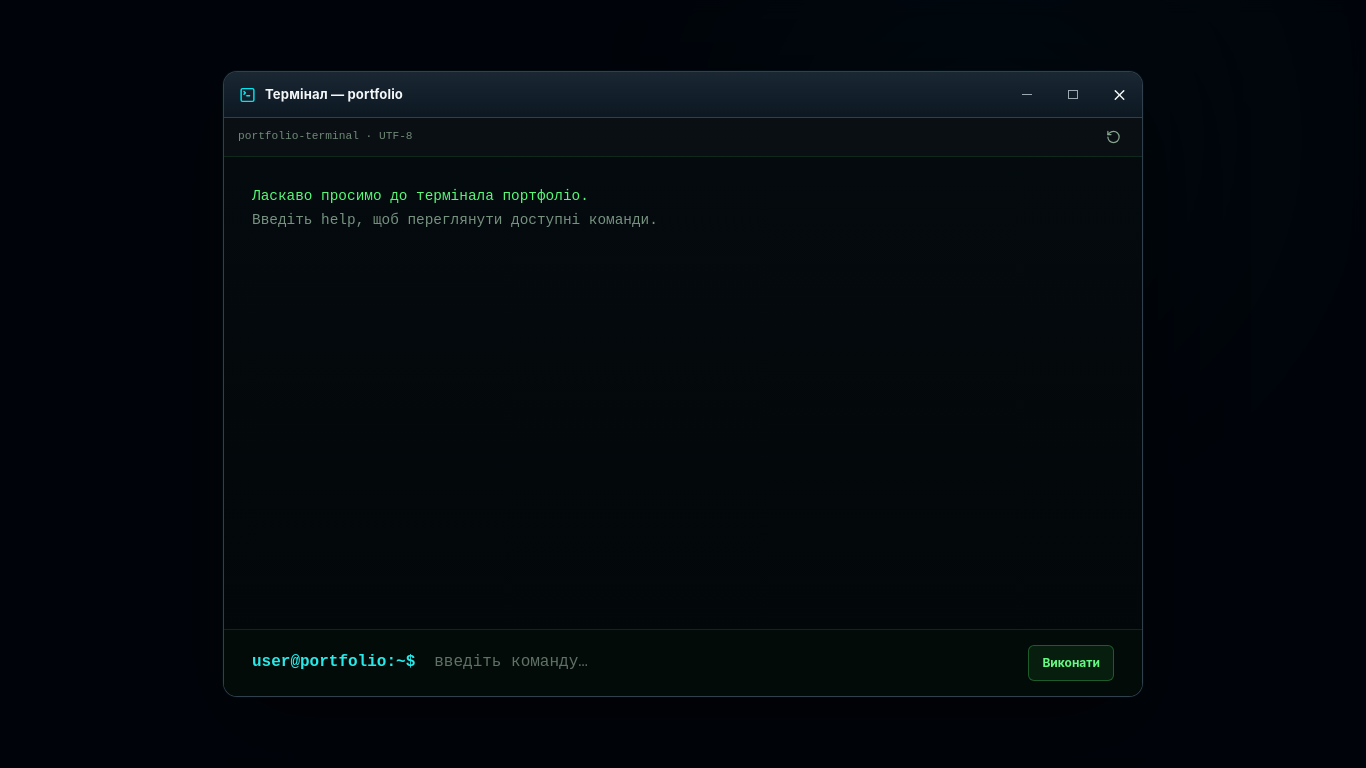
Scenario: TerminalWindow › prints the coffee easter egg after executing the command
Type "coffee" into the field with id "terminal-command".
click(726, 663); type("coffee")  # box [432,644,1020,682]
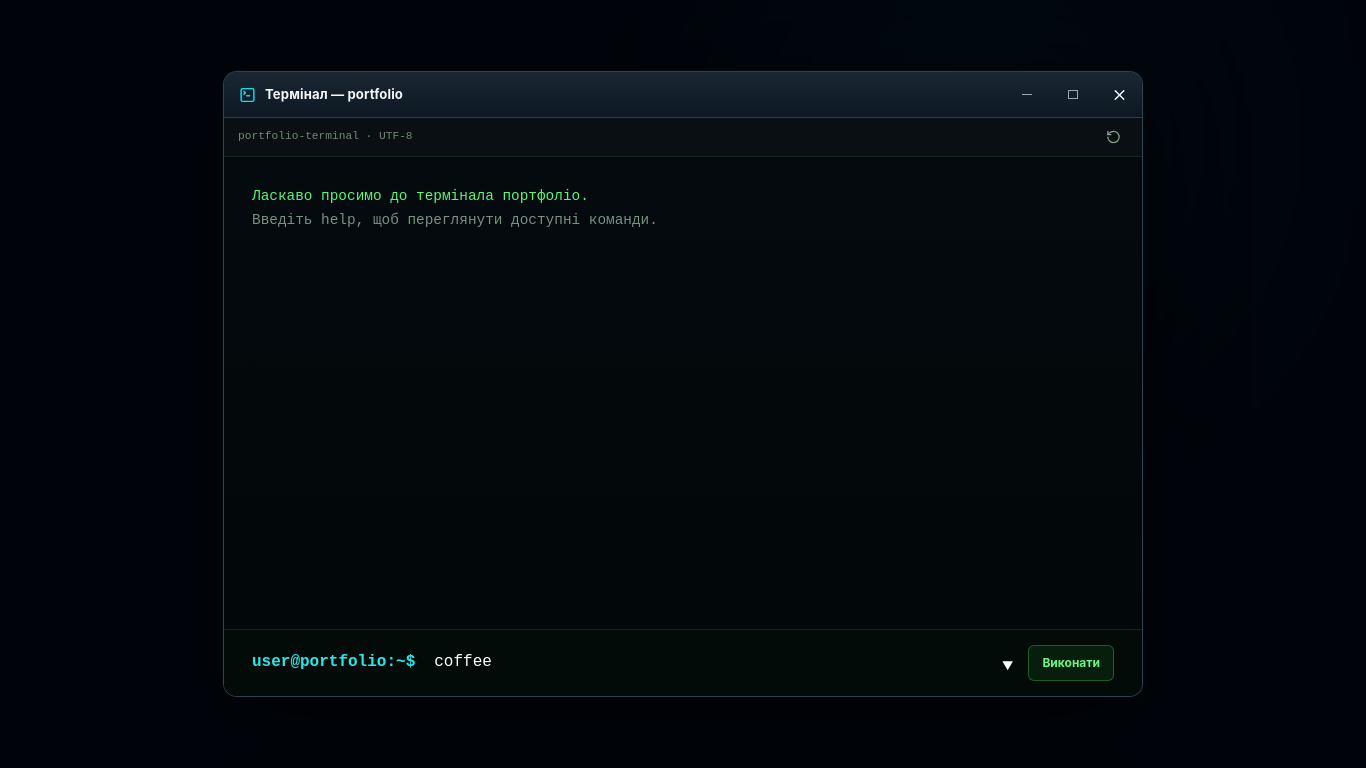
Submit the form with class "terminal__form", box [224,629,1142,696]
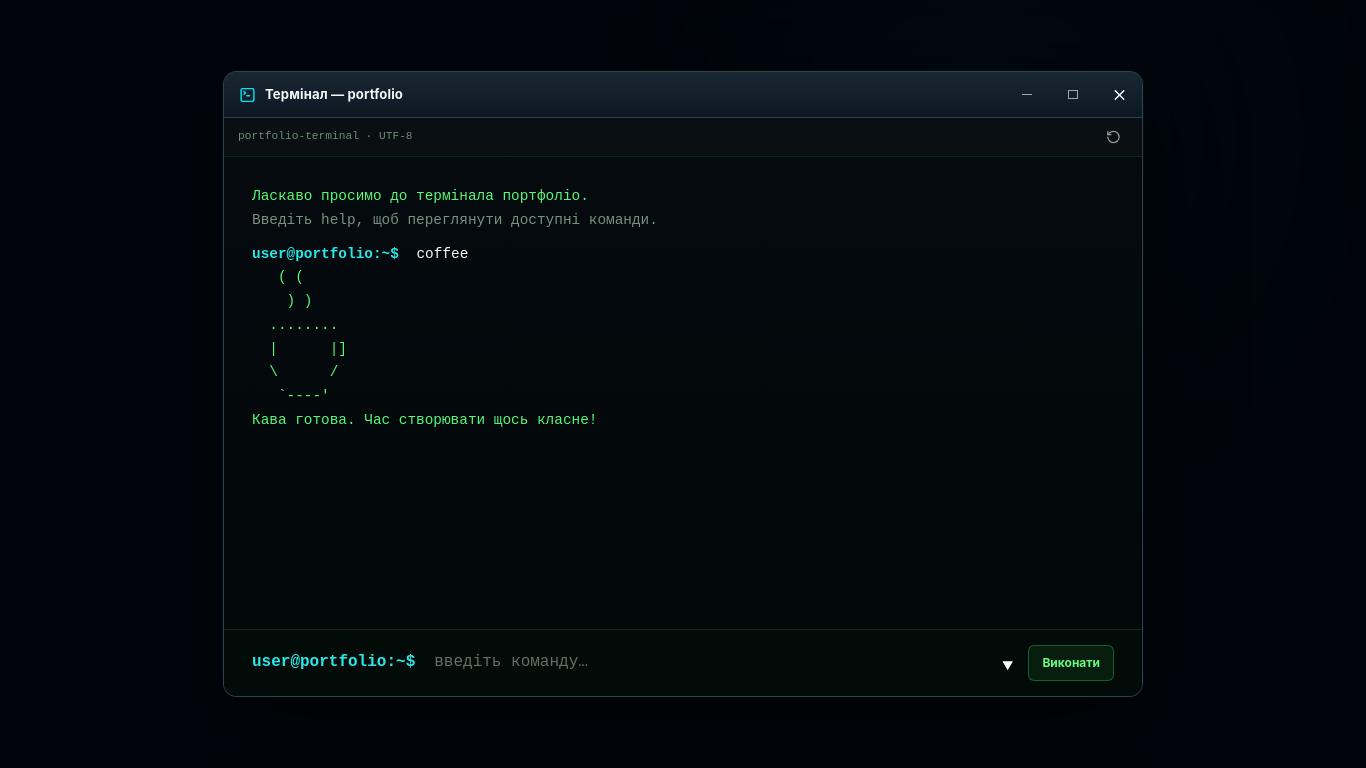
Expected: the text "Кава готова. Час створювати щось класне!" is shown, [252,412,597,428]
Expected: the number of elements with class "terminal__line--success" is 8
